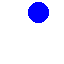circle: (28, 2, 48, 22)
